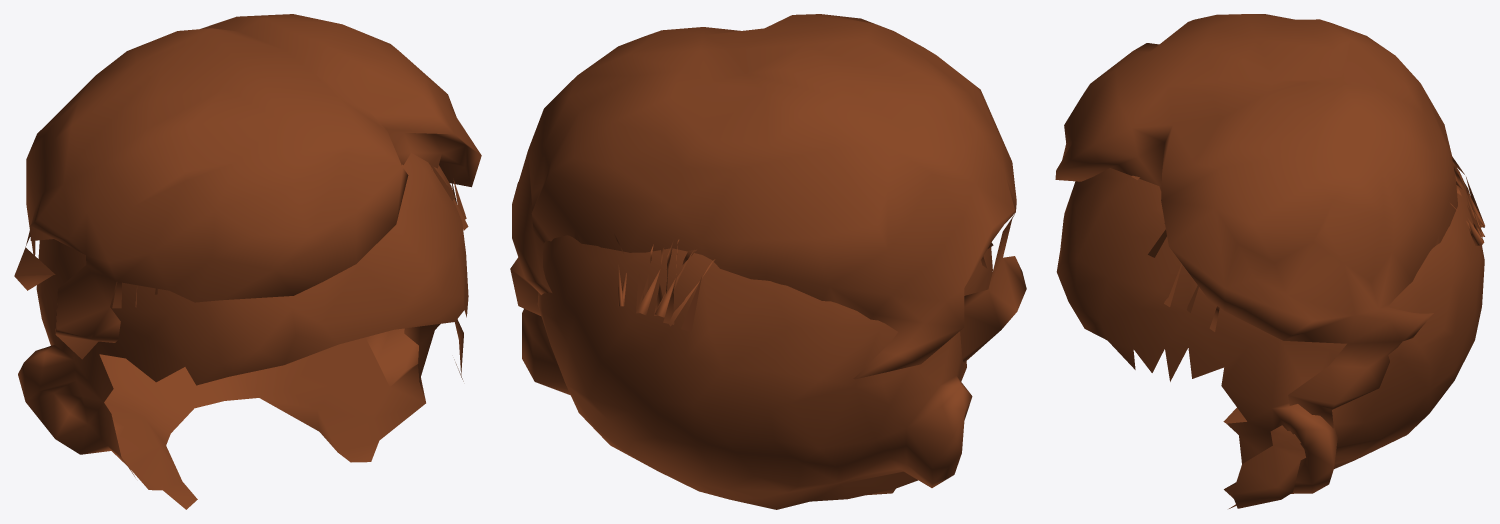
File: braid.glb
3 views of the same model, side by side, from view 1: azimuth 30°, elevation 25°; view 2: azimuth 150°, elevation 25°; view 3: azimuth 270°, elevation 25° (orthographic). The views are drawn at different scales.
Visible parts, largest first — view 1: Hair, HairScalp, HairPulledRootStrands; view 2: Hair, HairScalp, HairPulledRootStrands; view 3: Hair, HairScalp, HairPulledRootStrands.
Boxes of the visible parts, left/top/right/bottom form: Hair: left=14, top=14, right=481, bottom=381; HairScalp: left=18, top=153, right=468, bottom=509; HairPulledRootStrands: left=112, top=163, right=468, bottom=308; Hair: left=510, top=14, right=1026, bottom=379; HairScalp: left=522, top=235, right=992, bottom=509; HairPulledRootStrands: left=614, top=232, right=993, bottom=332; Hair: left=1055, top=14, right=1457, bottom=508; HairScalp: left=1056, top=162, right=1484, bottom=508; HairPulledRootStrands: left=1131, top=157, right=1484, bottom=331.
Size of the model in its own units: 0.4803 by 0.4467 by 0.42.
